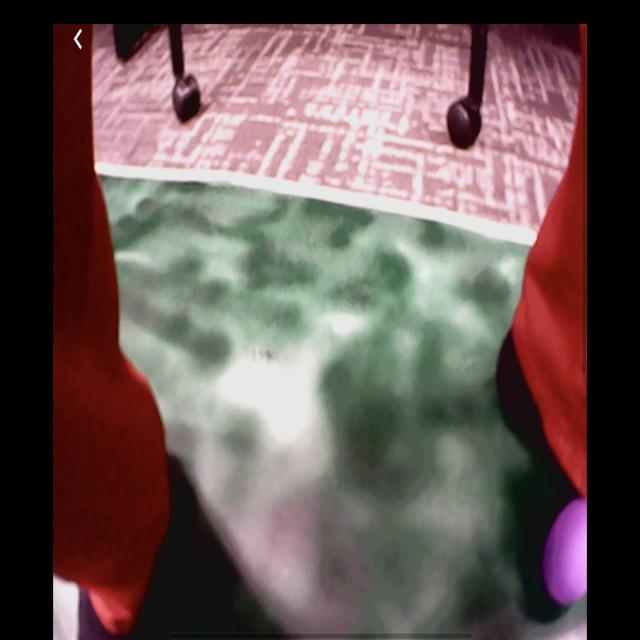ball: (546, 500, 588, 605)
